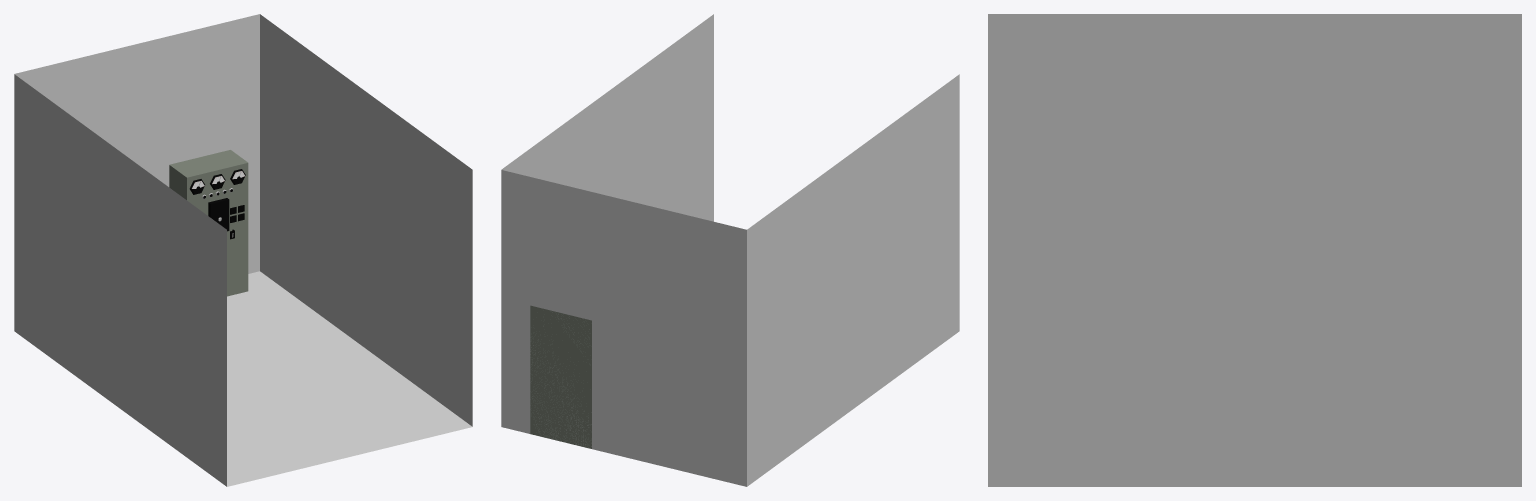
Rendered from bunkerElectric.fbx.
3 views of the same model, side by side, from view 1: azimuth 30°, elevation 25°; view 2: azimuth 150°, elevation 25°; view 3: azimuth 270°, elevation 25° (orthographic). The views are drawn at different scales.
Parts seen in each view (by area): view 1: Cube, Cube.001; view 2: Cube, Cube.001; view 3: Cube.
Part boxes in pixels (x1,y1,x2,y2): Cube: [14, 14, 472, 486]; Cube.001: [169, 150, 248, 296]; Cube: [501, 14, 959, 486]; Cube.001: [530, 305, 591, 448]; Cube: [988, 14, 1521, 486].
Size of the model in its own units: 400 by 400 by 600.
Materials: 5 (1 with a texture image).
